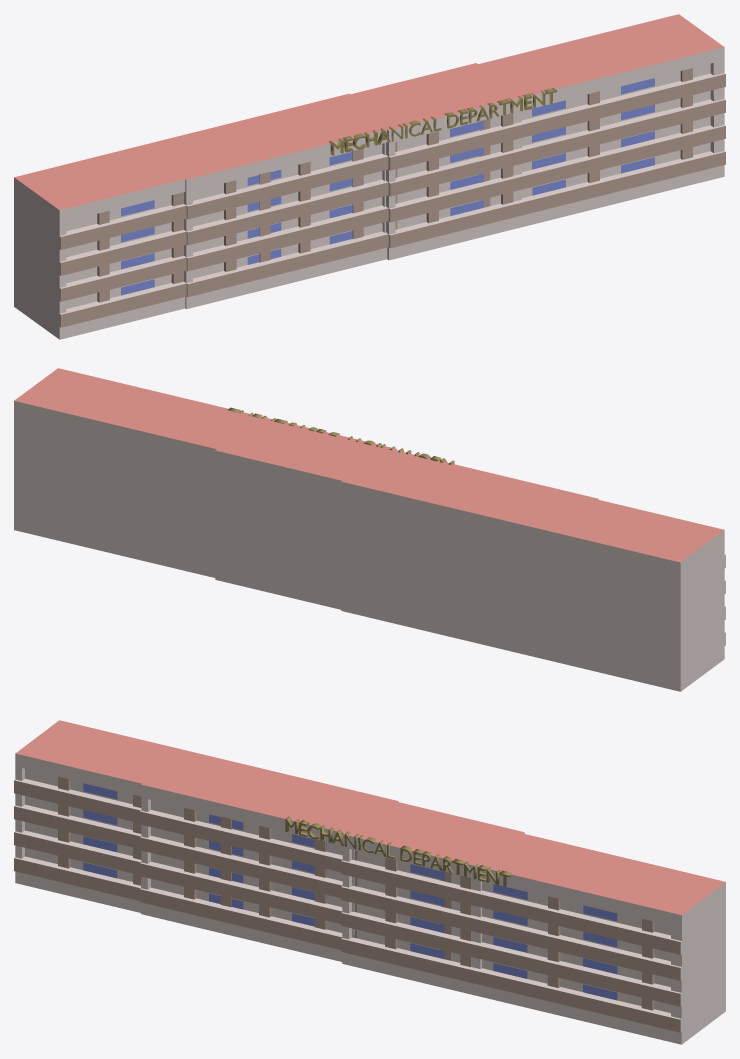
The model's file is mechanical.glb.
3 renders of one model, top to bottom at view 1: azimuth 30°, elevation 25°; view 2: azimuth 150°, elevation 25°; view 3: azimuth 330°, elevation 25°, orthographic.
Parts seen in each view (by area): view 1: Plane.001, Plane.007, Plane.003, Text; view 2: Plane.003, Plane.001, Plane.007, Text; view 3: Plane.001, Plane.007, Plane.003, Text.
Part boxes in pixels (left/top/right/bottom): Plane.001: left=344, top=14, right=725, bottom=260; Plane.007: left=141, top=63, right=521, bottom=309; Plane.003: left=14, top=93, right=385, bottom=339; Text: left=329, top=88, right=557, bottom=155; Plane.003: left=341, top=481, right=725, bottom=691; Plane.001: left=14, top=368, right=397, bottom=577; Plane.007: left=215, top=449, right=598, bottom=609; Text: left=227, top=407, right=454, bottom=464; Plane.001: left=341, top=801, right=725, bottom=1044; Plane.007: left=140, top=751, right=524, bottom=968; Plane.003: left=14, top=720, right=398, bottom=937; Text: left=285, top=816, right=512, bottom=886.
Bounding box in the file's own units: 37.98 × 7.21 × 4.85.
